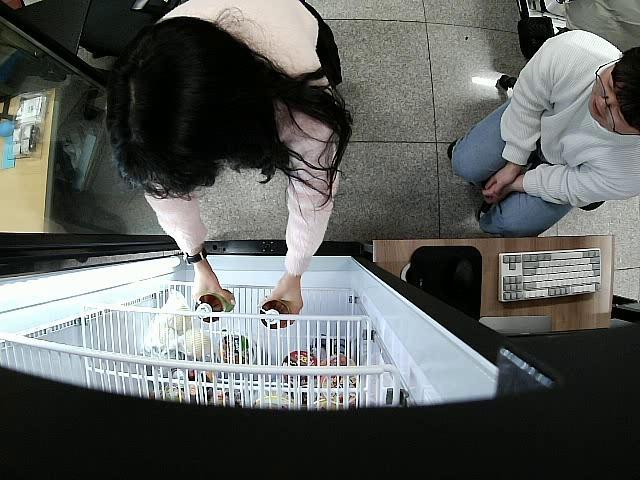19_17cha: (195, 287, 236, 325), (260, 300, 290, 330)
